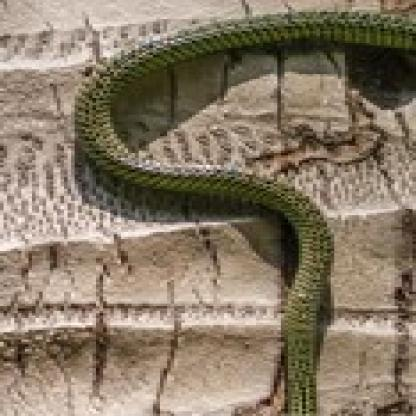snakes: (67, 12, 416, 413)
